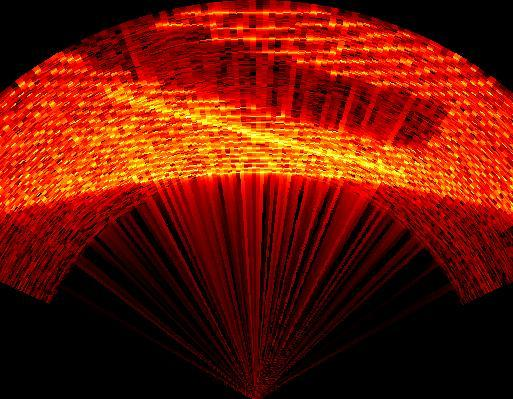pipe: (66, 13, 453, 153)
